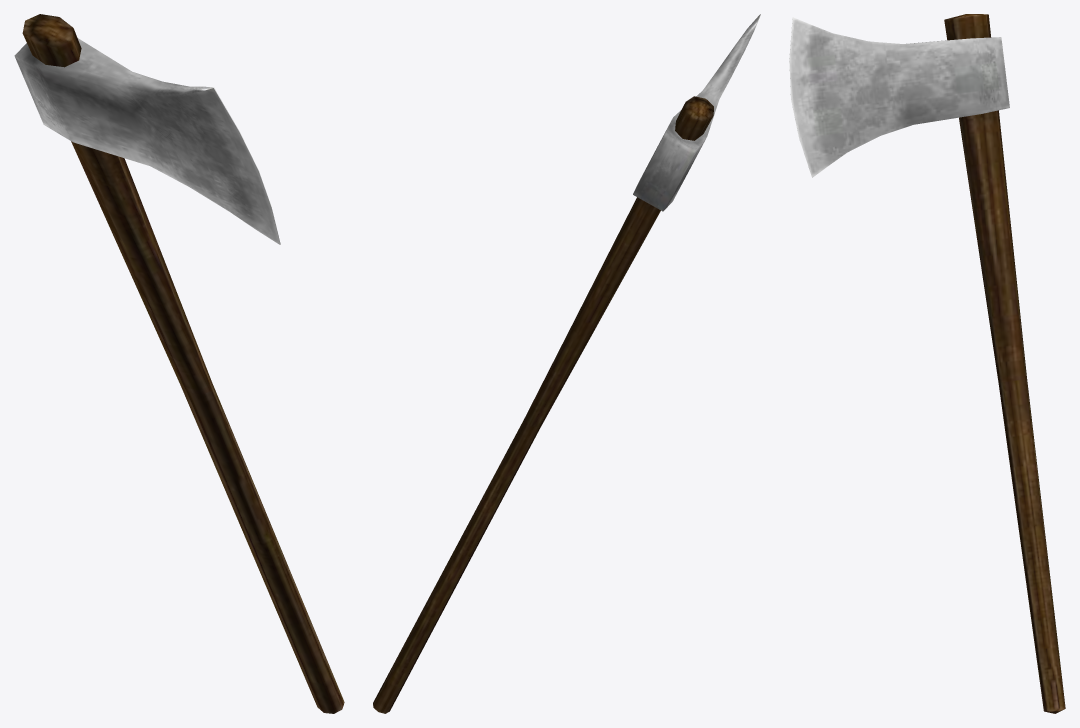
File: weapon-female-base.glb
The picture shows the model from 3 angles, left to right: view 1: azimuth 30°, elevation 25°; view 2: azimuth 150°, elevation 25°; view 3: azimuth 270°, elevation 25°; orthographic projection. The views are drawn at different scales.
Bounding box in the file's own units: 0.6941 × 1.49 × 0.6287.
Materials: 1 (1 with a texture image).
